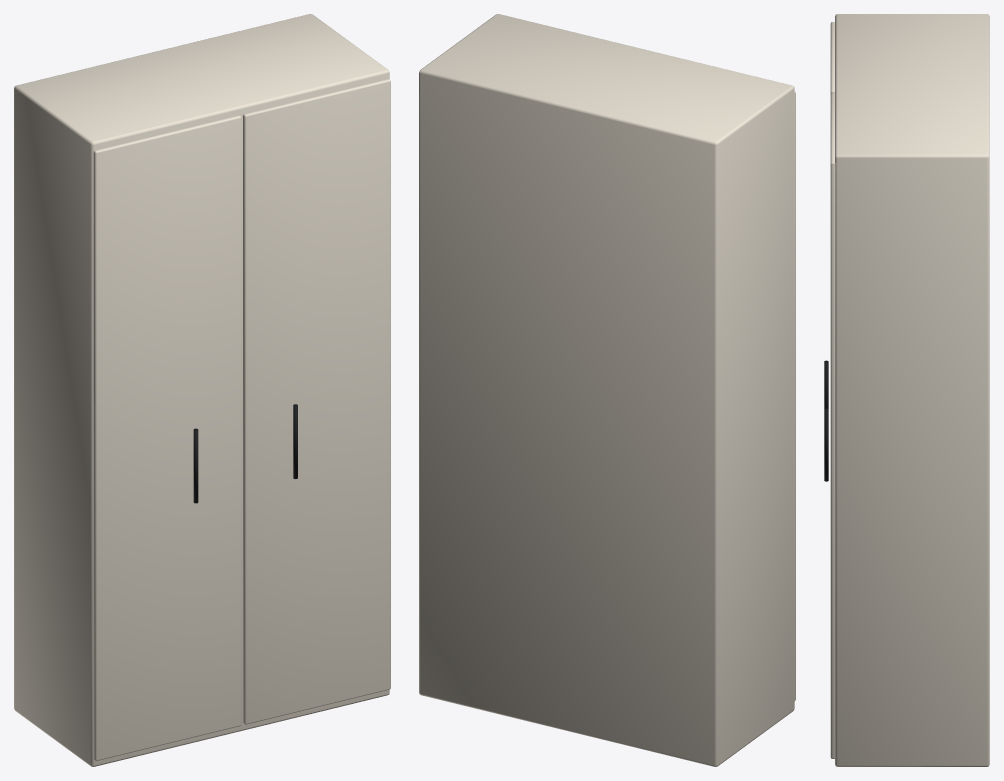
The model's file is bl_wardrobe_120_cream.glb.
3 renders of one model, left to right at view 1: azimuth 30°, elevation 25°; view 2: azimuth 150°, elevation 25°; view 3: azimuth 270°, elevation 25°, orthographic. The views are drawn at different scales.
Parts seen in each view (by area): view 1: door0, door1, body; view 2: body, door0; view 3: body, door1, handle1, door0.
Boxes of the visible parts, bbox=[...] form: door0: bbox=[93, 115, 241, 760]; door1: bbox=[243, 79, 390, 724]; body: bbox=[14, 14, 389, 766]; body: bbox=[419, 14, 794, 766]; door0: bbox=[794, 91, 795, 700]; body: bbox=[835, 14, 989, 766]; door1: bbox=[830, 93, 835, 758]; handle1: bbox=[824, 408, 828, 481]; door0: bbox=[830, 22, 834, 94].
Bounding box in the file's own units: 1.2 × 2.4 × 0.588.
